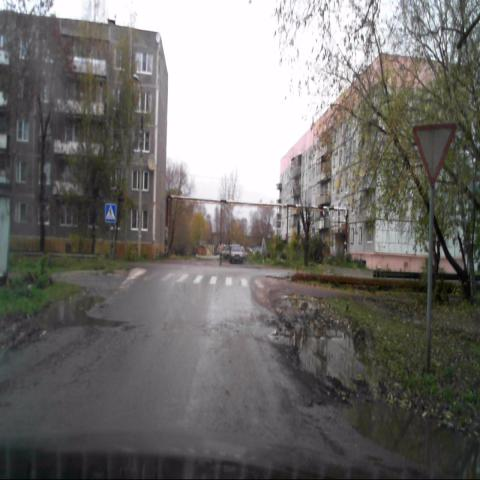1_31: (412, 121, 457, 189)
